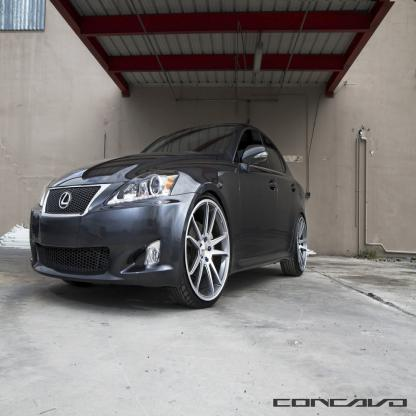Car: (36, 115, 314, 307)
